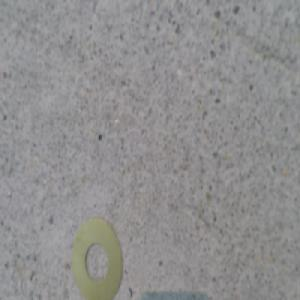Washer: (72, 211, 123, 299)
